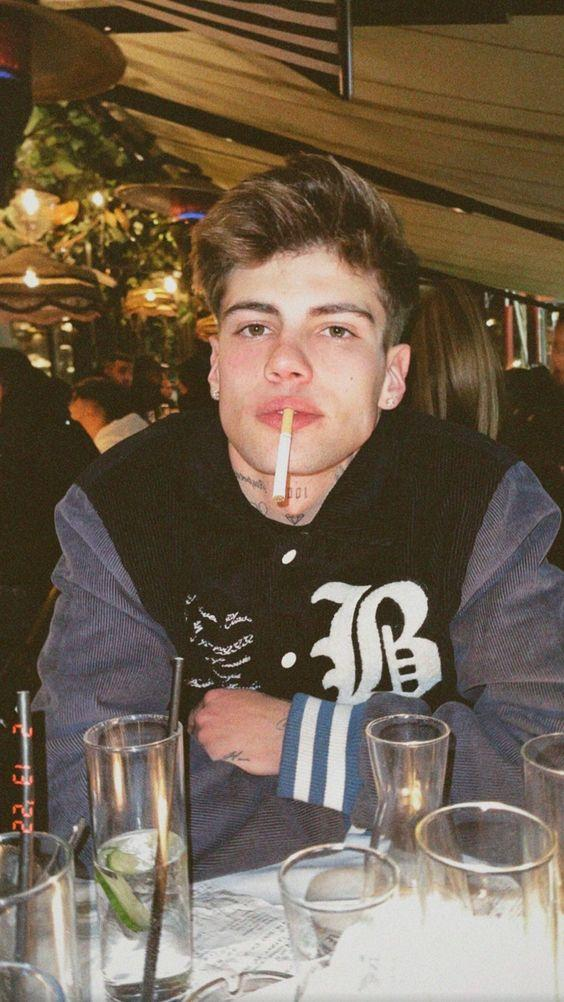cigarette: (274, 407, 294, 505)
